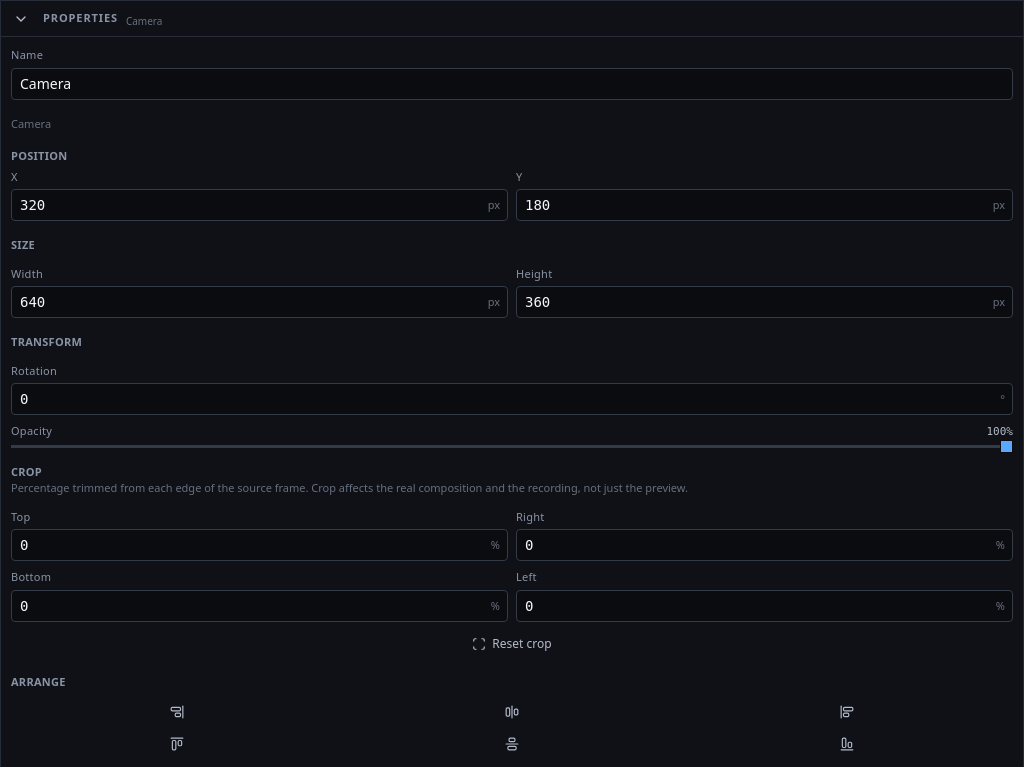
it: PropertiesPanel › renames the source from the panel
Replace the text in the field labelled "Name" with "Host Camera" at (512, 84), box [11,68,1013,100]
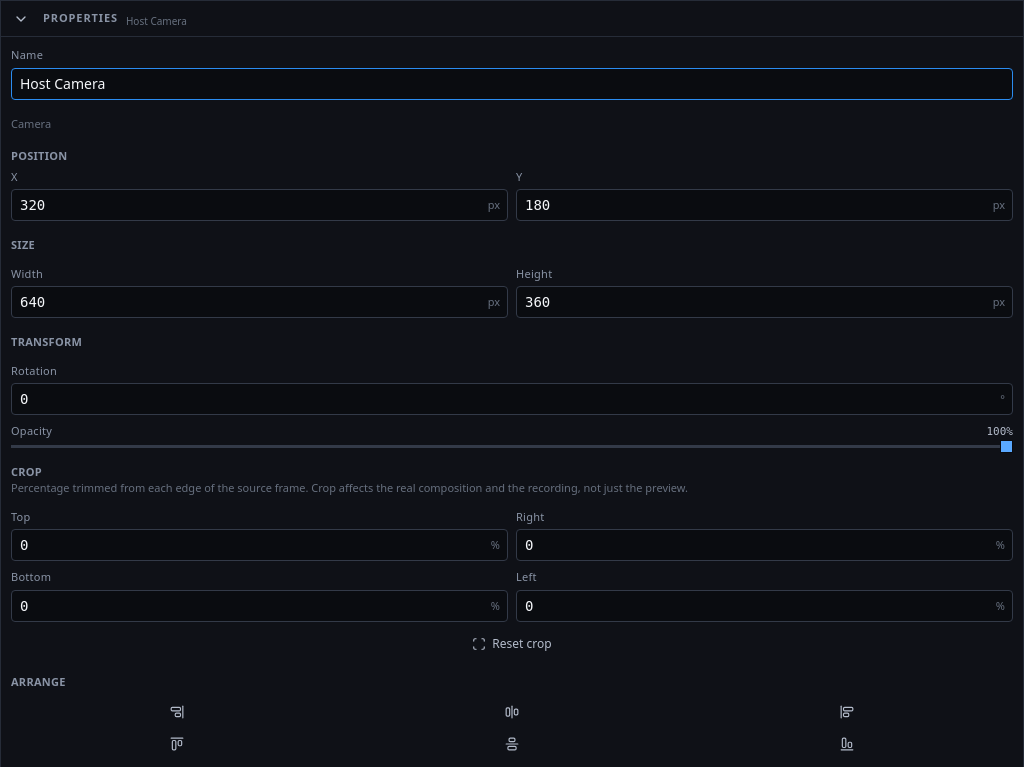
Result: the text "Host Camera" is shown at [126,14,187,28]
